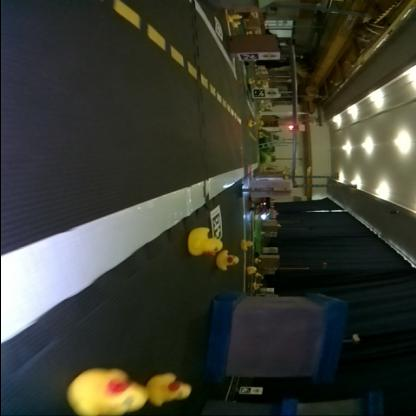Duckie: (67, 367, 147, 414), (151, 372, 191, 404), (188, 227, 222, 255), (216, 252, 238, 270), (239, 238, 254, 249), (249, 121, 256, 126)
Intersection sign: (253, 386, 259, 392)
QR code: (210, 204, 223, 240), (241, 53, 257, 59), (254, 88, 262, 96), (242, 388, 249, 392)
Signal sign: (267, 88, 277, 96)
